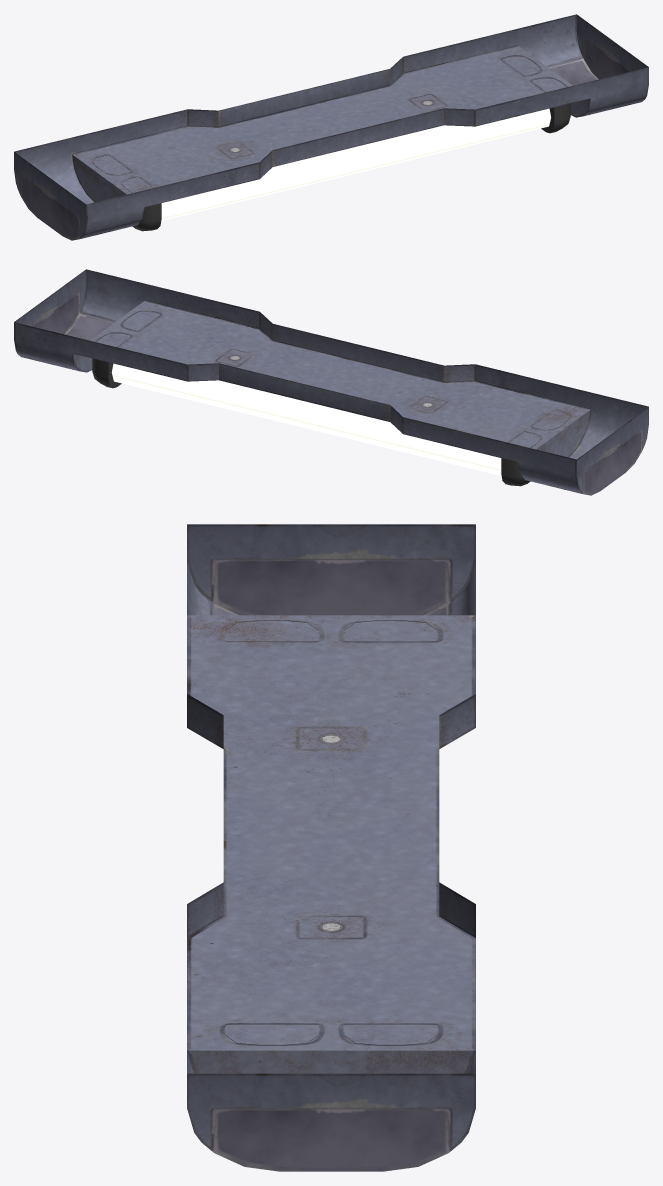
3 views of the same model, one above another, from view 1: azimuth 30°, elevation 25°; view 2: azimuth 150°, elevation 25°; view 3: azimuth 270°, elevation 25° (orthographic). The views are drawn at different scales.
Parts seen in each view (by area): view 1: light_a_LP; view 2: light_a_LP; view 3: light_a_LP.
Part boxes in pixels (x1,y1,x2,y2): light_a_LP: (14, 14, 648, 240); light_a_LP: (14, 269, 648, 495); light_a_LP: (187, 524, 475, 1171).
Bounding box in the file's own units: 1.8 × 0.1757 × 0.4.
1 material, 1 textured.
